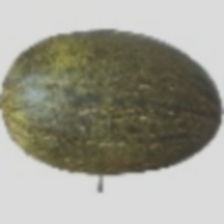honeydew: (7, 35, 186, 171)
